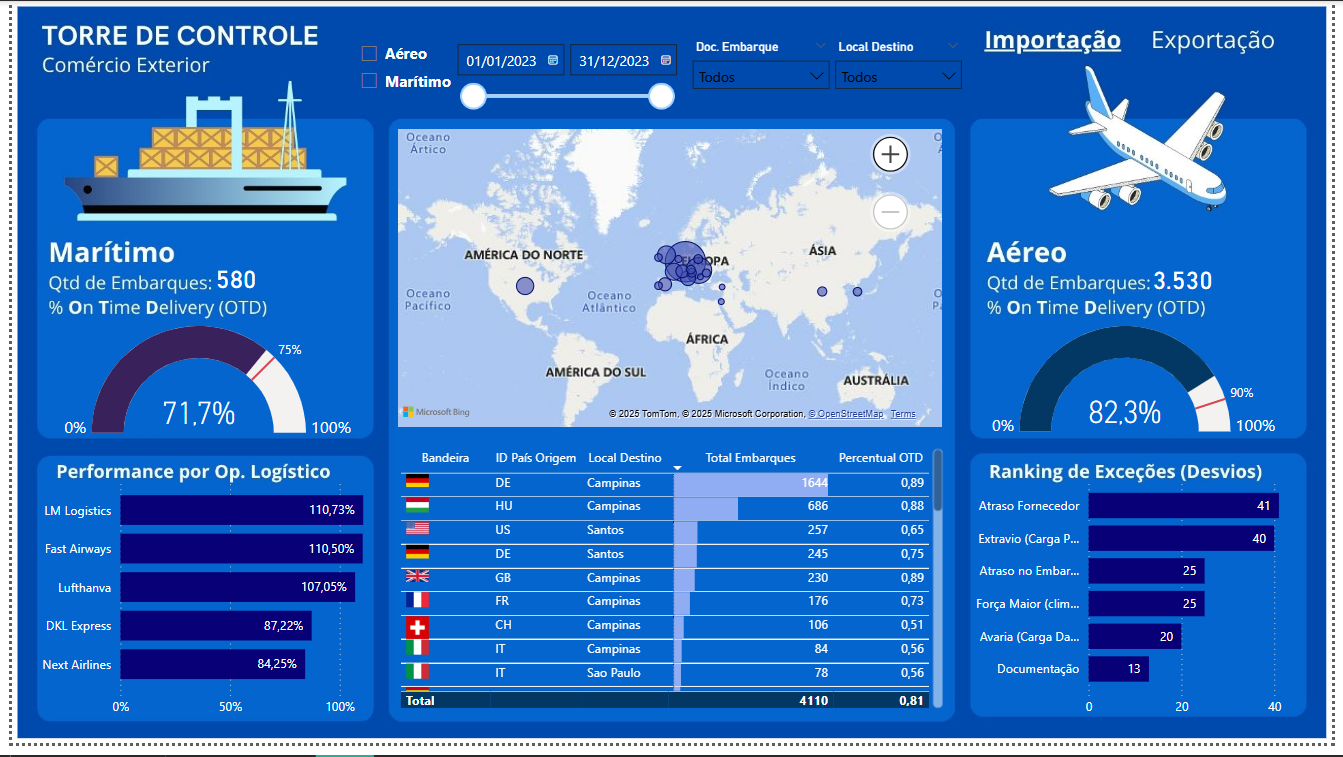

The page's visual inventory and layout, read from the dashboard file:
{"tool":"powerbi","page":{"name":"Importação","canvas":[1280,720],"ordinal":0},"visuals":[{"type":"image","box":[0,0,1280.5,720.6],"z":0},{"type":"card","fields":{"Values":["Historico Importacao.Total Embarques"]},"box":[190.7,251.8,52.4,34.9],"z":1000},{"type":"card","fields":{"Values":["Historico Importacao.Total Embarques"]},"box":[1085,251.8,102.7,36.4],"z":2000},{"type":"gauge","fields":{"Y":["Bandeiras.Percentual OTD"],"TargetValue":["Historico Importacao.meta maritimo"]},"box":[10.9,310,359.1,119.1],"z":3000},{"type":"gauge","fields":{"Y":["Bandeiras.Percentual OTD"],"TargetValue":["Historico Importacao.meta aereo"]},"box":[916,309.8,346.2,117.6],"z":4000},{"type":"barChart","fields":{"Category":["Cadastros Operadores Logísticos.Operador Logístico"],"Y":["Bandeiras.Percentual OTD"]},"box":[16.6,450.6,402.5,251.8],"z":5000},{"type":"barChart","fields":{"Category":["Cadastros Excessões.Descrição Desvio"],"Y":["CountNonNull(Historico Importacao.Cód. Exceção)"]},"box":[916,450.6,352.8,251.8],"z":6000},{"type":"map","fields":{"Category":["Historico Importacao.ID País Origem"],"Size":["Historico Importacao.Total Embarques"]},"box":[370,118.8,537.5,298.8],"z":7000},{"type":"tableEx","fields":{"Values":["Bandeiras.Bandeira","Historico Importacao.ID País Origem","Historico Importacao.Local Destino","Historico Importacao.Total Embarques","Bandeiras.Percentual OTD"]},"box":[371.1,429,536.7,261.7],"z":8000},{"type":"slicer","fields":{"Values":["Historico Importacao.Tipo"]},"box":[326.3,31.5,122.6,64.6],"z":9000},{"type":"slicer","fields":{"Values":["Historico Importacao.Data da Coleta"]},"box":[419.1,31.5,231.9,82.8],"z":10000},{"type":"slicer","fields":{"Values":["Historico Importacao.Doc. Embarque (AWB / BL)"]},"box":[651,31.5,152.4,74.5],"z":11000},{"type":"slicer","fields":{"Values":["Historico Importacao.Local Destino"]},"box":[788.5,31.5,142.5,64.6],"z":12000},{"type":"actionButton","box":[1105.4,23.8,122.3,27.7],"z":13000}]}

Visuals, with their boxes in screenshot pixels (x1, y1, x2, y2), scaled from the page's 1280x720 canvas onto the 1343x757 screenshot:
image: <box>0,0,1342,756</box>
card - Historico Importacao.Total Embarques: <box>200,265,255,301</box>
card - Historico Importacao.Total Embarques: <box>1138,265,1246,303</box>
gauge - Bandeiras.Percentual OTD x Historico Importacao.meta maritimo: <box>11,326,388,451</box>
gauge - Bandeiras.Percentual OTD x Historico Importacao.meta aereo: <box>961,326,1324,449</box>
barChart - Cadastros Operadores Logísticos.Operador Logístico x Bandeiras.Percentual OTD: <box>17,474,440,738</box>
barChart - Cadastros Excessões.Descrição Desvio x CountNonNull(Historico Importacao.Cód. Exceção): <box>961,474,1331,738</box>
map - Historico Importacao.ID País Origem x Historico Importacao.Total Embarques: <box>388,125,952,439</box>
tableEx - Bandeiras.Bandeira x Historico Importacao.ID País Origem: <box>389,451,952,726</box>
slicer - Historico Importacao.Tipo: <box>342,33,471,101</box>
slicer - Historico Importacao.Data da Coleta: <box>440,33,683,120</box>
slicer - Historico Importacao.Doc. Embarque (AWB / BL): <box>683,33,843,111</box>
slicer - Historico Importacao.Local Destino: <box>827,33,977,101</box>
actionButton: <box>1160,25,1288,54</box>
